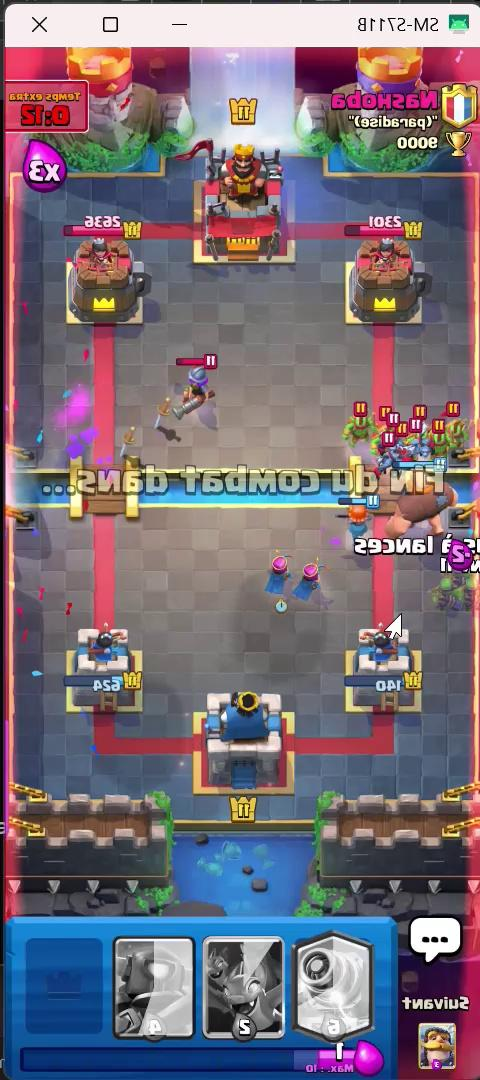archere: (293, 546, 340, 608), (260, 534, 294, 600)
gargouille: (402, 434, 434, 463), (380, 444, 404, 481)
geant: (381, 473, 457, 542)
gobelin_lances: (445, 544, 472, 593), (345, 405, 379, 439), (371, 421, 401, 454), (431, 411, 448, 459), (457, 572, 479, 608), (448, 416, 469, 450), (432, 577, 452, 608), (398, 429, 418, 453)
mousquetaire: (169, 343, 234, 442)
squelette: (410, 402, 434, 434), (387, 408, 405, 438)
valkyrie: (328, 493, 386, 555)
